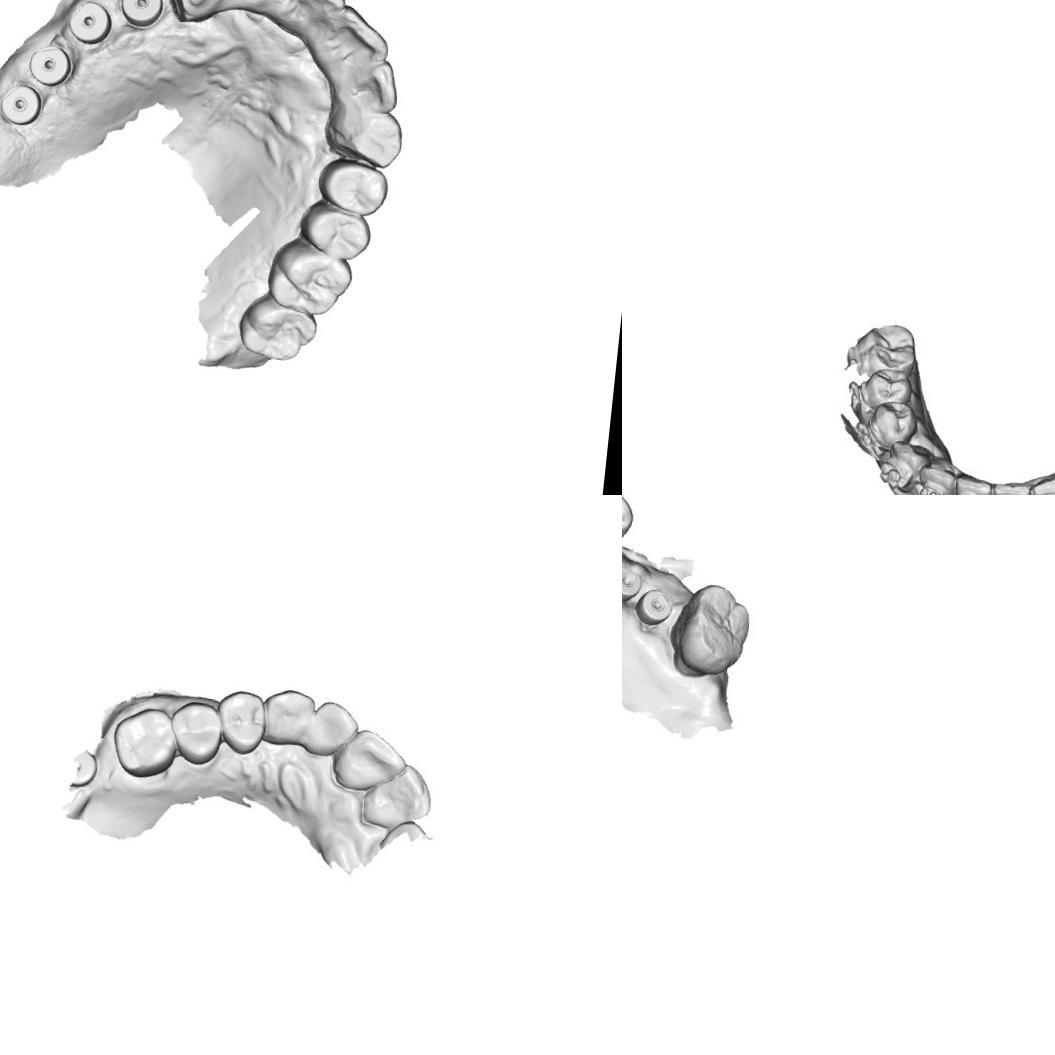canine: (336, 104, 408, 170), (259, 686, 318, 750), (165, 0, 238, 29), (892, 440, 934, 478)
implant: (0, 77, 46, 128), (67, 0, 113, 41), (29, 44, 68, 84), (636, 586, 673, 625), (622, 563, 646, 606), (120, 0, 163, 23)
incisor: (330, 726, 412, 796), (358, 759, 436, 832), (331, 3, 390, 75), (302, 698, 362, 761), (355, 55, 408, 116), (278, 0, 349, 31), (224, 0, 289, 27), (922, 464, 954, 488), (956, 475, 991, 495), (990, 479, 1027, 495), (1033, 472, 1055, 495)
molar: (666, 576, 762, 684), (266, 238, 357, 316), (236, 294, 321, 368), (108, 702, 185, 782), (863, 319, 920, 373)
premolar: (314, 157, 395, 221), (302, 202, 375, 264), (166, 698, 227, 767), (212, 688, 270, 758), (869, 368, 915, 409), (870, 404, 916, 445)
